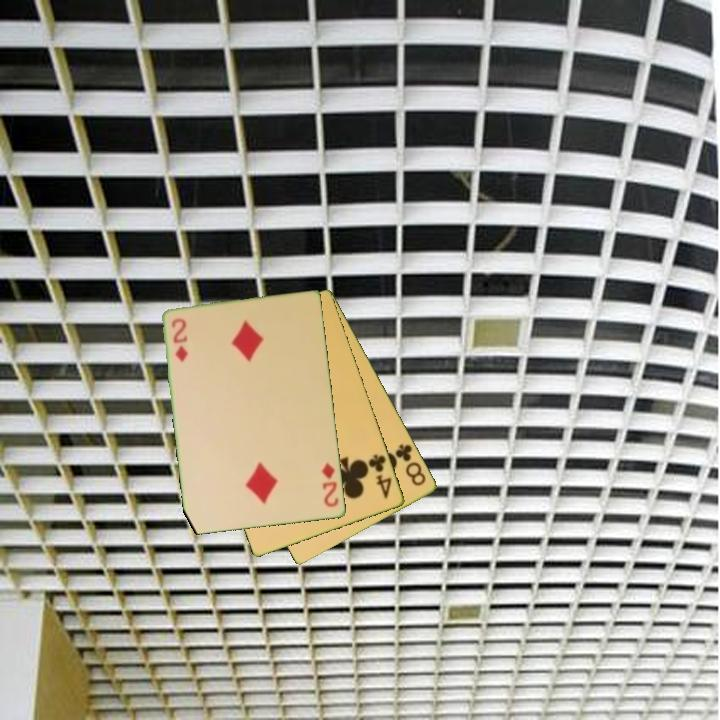2d: (318, 460, 342, 510), (168, 315, 191, 365)
4c: (365, 450, 395, 502)
8c: (392, 440, 429, 489)
